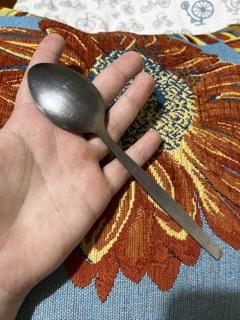spoon: (24, 61, 226, 262)
